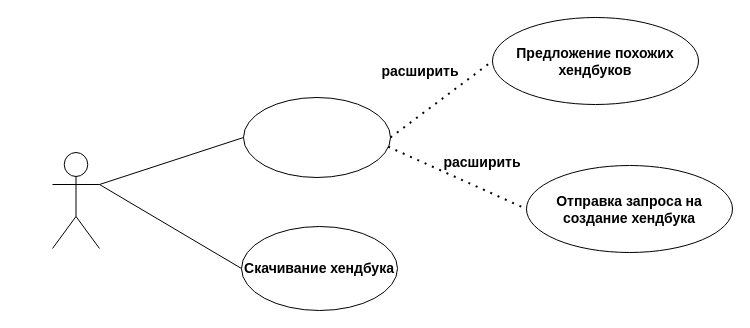
Some shapes in this 750 by 328 pixel diagram are drawn without their labels. The centre of each missing label's shape, as x and y in pixels:
Поиск и просмотр хендбука: point 316,137
Сотрудники, клиенты, студенты: point 76,200
